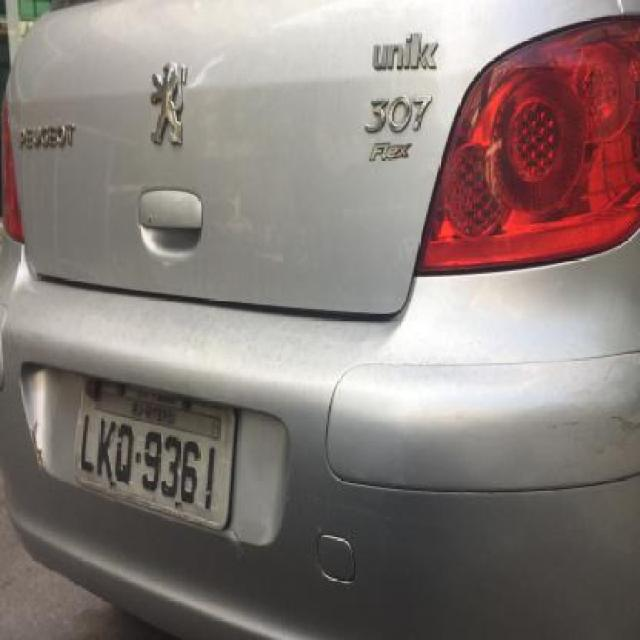old_plate: (66, 371, 245, 538)
